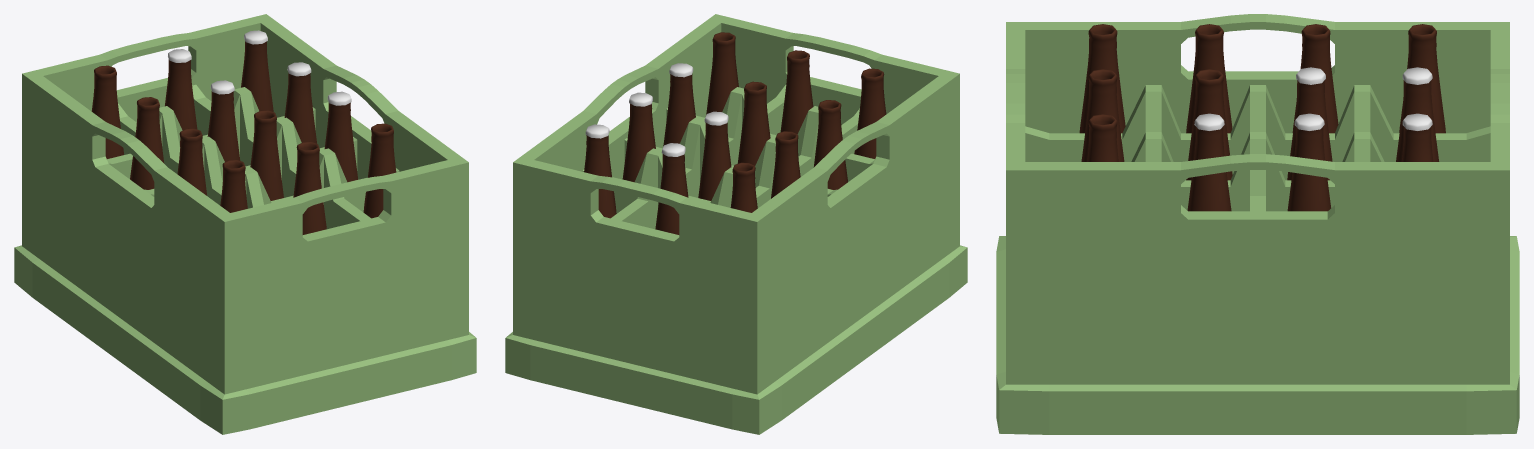
Rendered from beer_box.glb.
The picture shows the model from 3 angles, left to right: view 1: azimuth 30°, elevation 25°; view 2: azimuth 150°, elevation 25°; view 3: azimuth 270°, elevation 25°; orthographic projection. The views are drawn at different scales.
Visible parts, largest first — view 1: BeerBox; view 2: BeerBox; view 3: BeerBox.
Part boxes in pixels (<box>): BeerBox: <box>14,14,476,434</box>; BeerBox: <box>505,14,967,434</box>; BeerBox: <box>996,14,1519,434</box>.
Size of the model in its own units: 0.3935 by 0.3348 by 0.5563.
